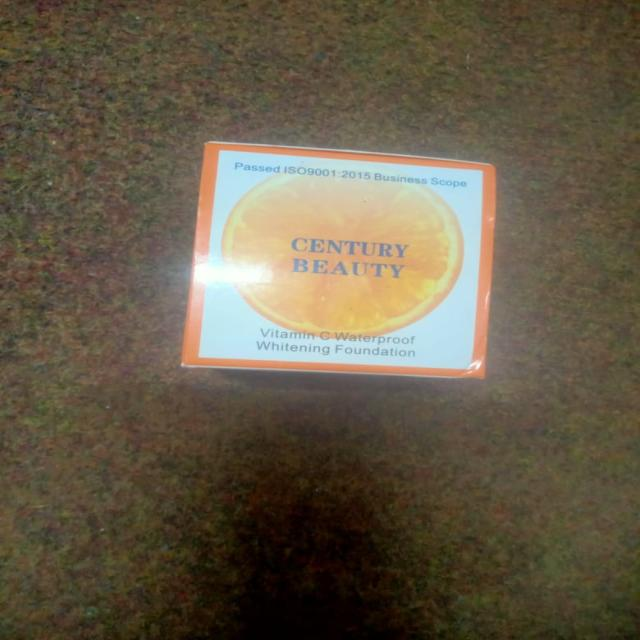foundation: (196, 143, 506, 410)
